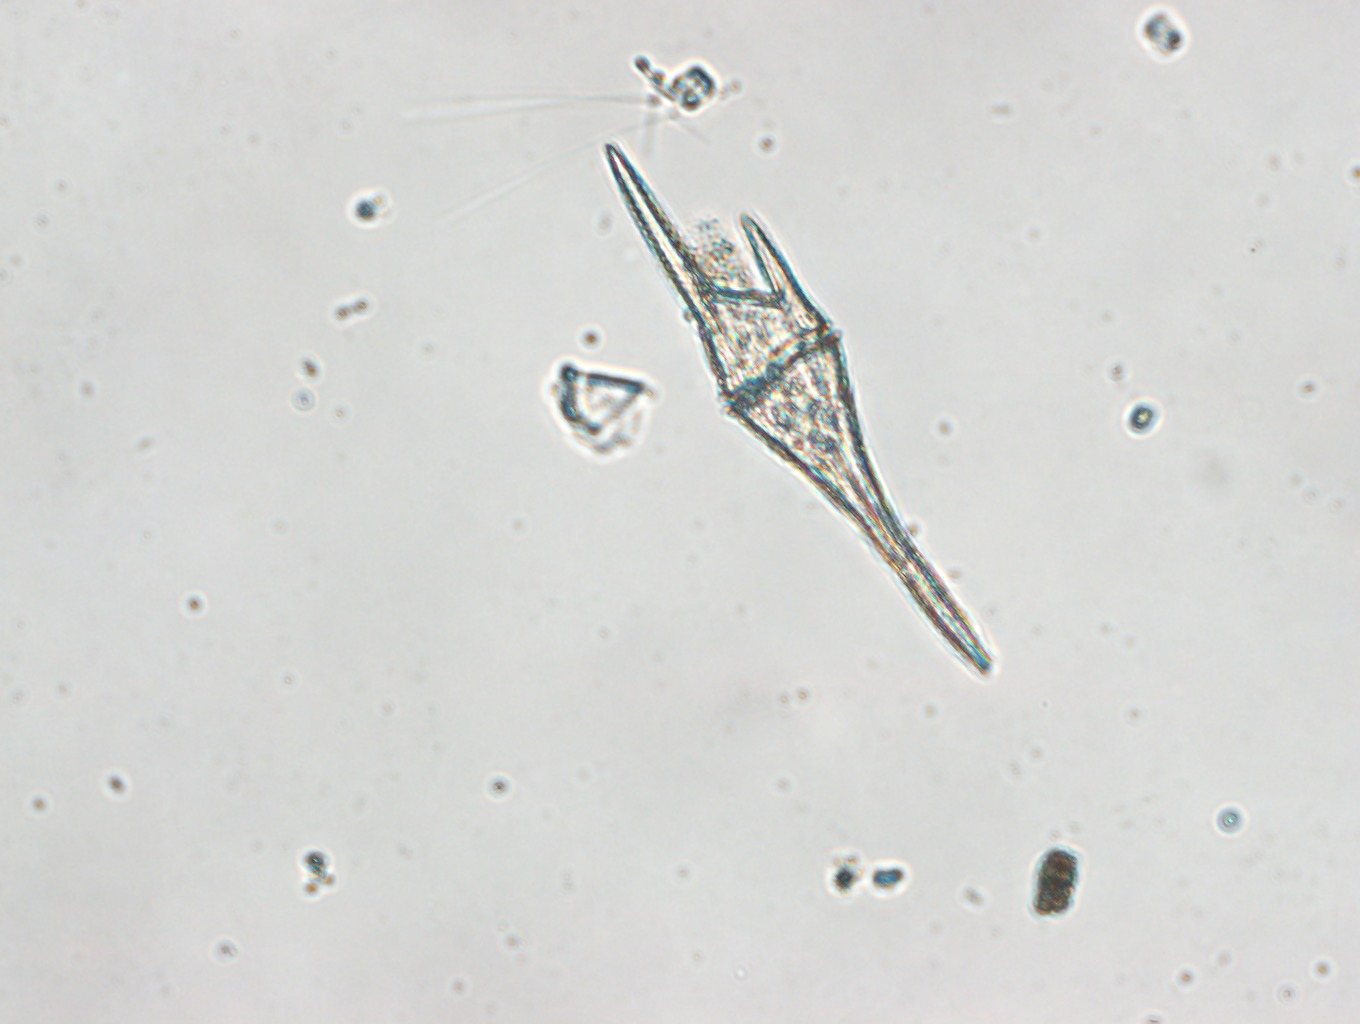ceratium furca: (601, 137, 996, 683)
